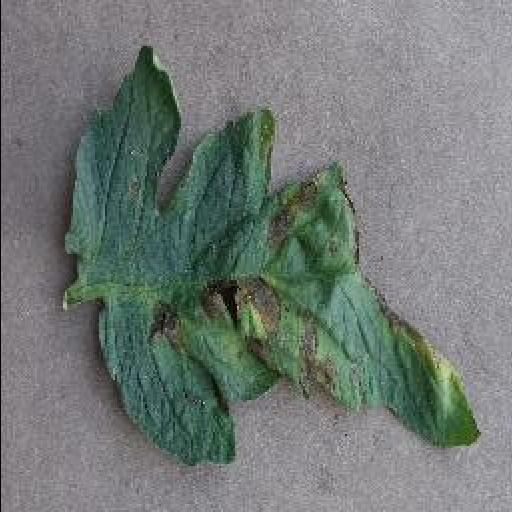disease_tomato: (60, 42, 480, 468)
